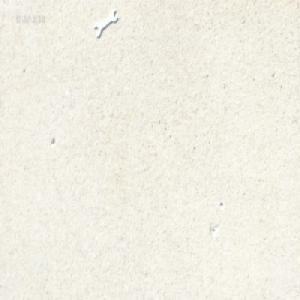Wrench: (93, 12, 116, 40)
